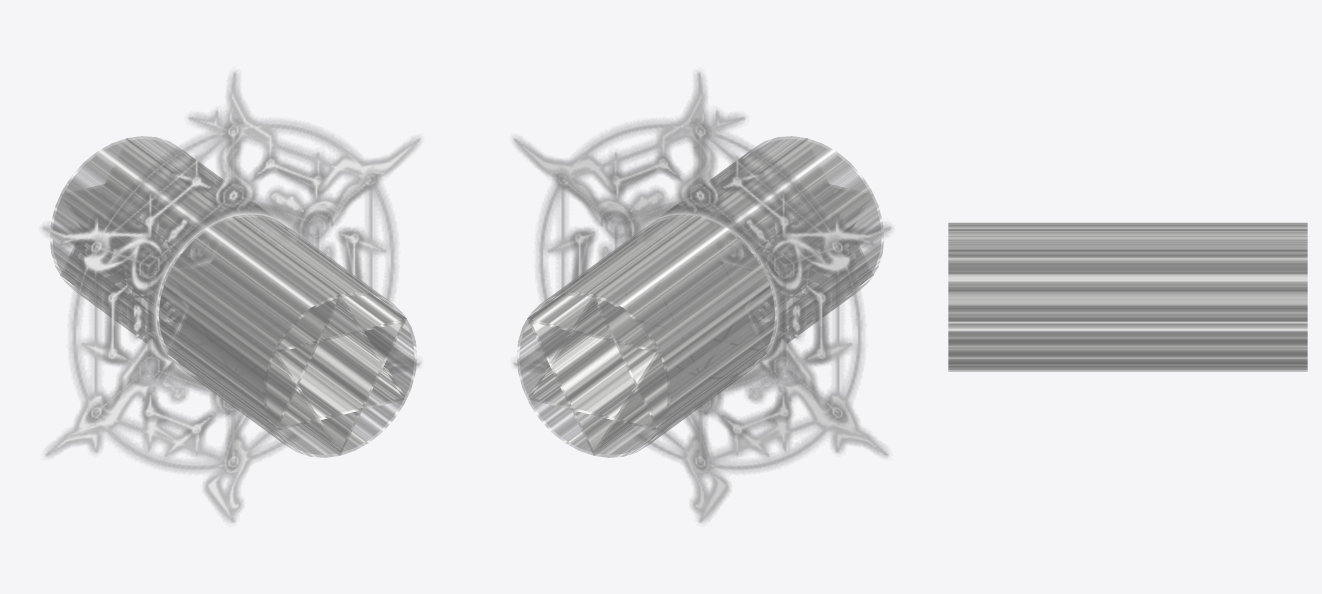
The model's file is si_eos_1000.glb.
The picture shows the model from 3 angles, left to right: view 1: azimuth 30°, elevation 25°; view 2: azimuth 150°, elevation 25°; view 3: azimuth 270°, elevation 25°; orthographic projection. The views are drawn at different scales.
Visible parts, largest first — view 1: layer_06_si_est_0600, layer_04_si_eos_1006, layer_07_si_est_0600, layer_08_si_est_0600, layer_03_si_eos_1005, layer_02_si_eos_1004, layer_00_si_eos_1000, layer_09_si_est_0900; view 2: layer_06_si_est_0600, layer_04_si_eos_1006, layer_07_si_est_0600, layer_08_si_est_0600, layer_03_si_eos_1005, layer_02_si_eos_1004, layer_00_si_eos_1000, layer_09_si_est_0900; view 3: layer_06_si_est_0600, layer_07_si_est_0600, layer_08_si_est_0600.
Part boxes in pixels (left/top/right/bottom): layer_06_si_est_0600: left=50, top=136, right=416, bottom=457; layer_04_si_eos_1006: left=42, top=72, right=420, bottom=522; layer_07_si_est_0600: left=60, top=139, right=406, bottom=430; layer_08_si_est_0600: left=60, top=165, right=406, bottom=454; layer_03_si_eos_1005: left=88, top=121, right=377, bottom=470; layer_02_si_eos_1004: left=129, top=181, right=334, bottom=412; layer_00_si_eos_1000: left=147, top=204, right=313, bottom=386; layer_09_si_est_0900: left=156, top=214, right=304, bottom=379; layer_06_si_est_0600: left=517, top=136, right=883, bottom=457; layer_04_si_eos_1006: left=513, top=72, right=891, bottom=522; layer_07_si_est_0600: left=527, top=139, right=873, bottom=430; layer_08_si_est_0600: left=527, top=165, right=873, bottom=454; layer_03_si_eos_1005: left=556, top=121, right=845, bottom=470; layer_02_si_eos_1004: left=599, top=181, right=804, bottom=412; layer_00_si_eos_1000: left=620, top=205, right=784, bottom=385; layer_09_si_est_0900: left=629, top=214, right=777, bottom=379; layer_06_si_est_0600: left=948, top=222, right=1307, bottom=371; layer_07_si_est_0600: left=948, top=229, right=1307, bottom=358; layer_08_si_est_0600: left=948, top=266, right=1307, bottom=362.
Bounding box in the file's own units: 2846 × 2846 × 2400.
8 materials, 8 textured.
